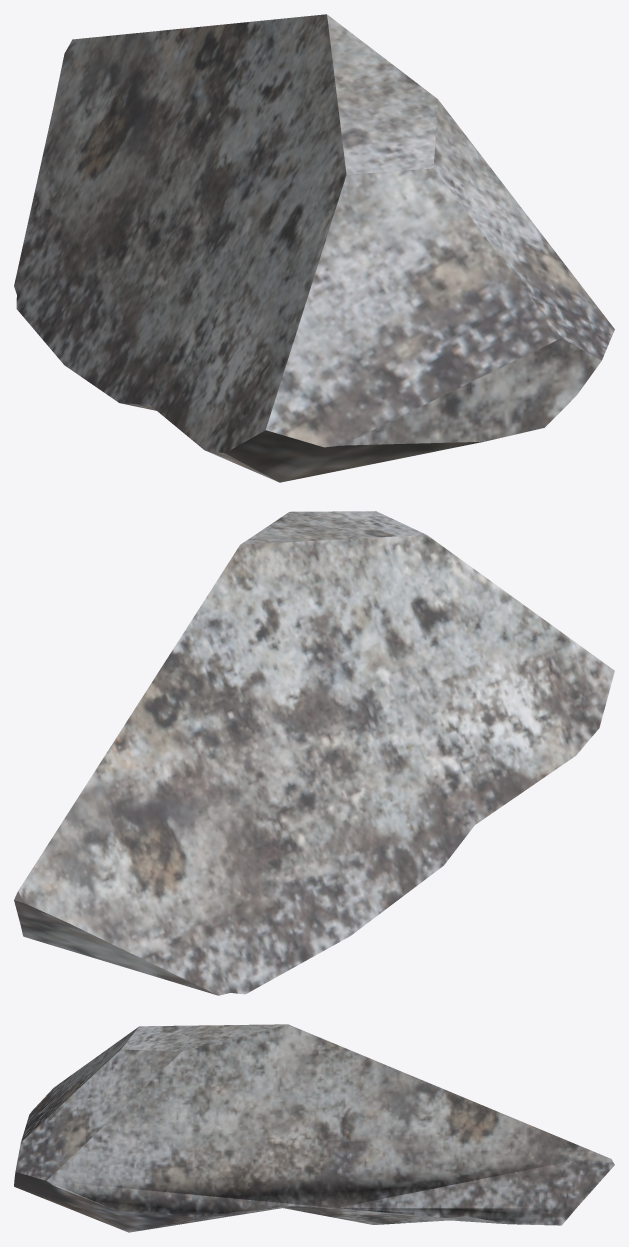
Rendered from Asteroid_Medium_001_02_001_03_003.fbx.
The picture shows the model from 3 angles, top to bottom: view 1: azimuth 30°, elevation 25°; view 2: azimuth 150°, elevation 25°; view 3: azimuth 270°, elevation 25°; orthographic projection. The views are drawn at different scales.
Visible parts, largest first — view 1: Asteroid_Medium_001_02_001_03_003; view 2: Asteroid_Medium_001_02_001_03_003; view 3: Asteroid_Medium_001_02_001_03_003.
Part boxes in pixels (left/top/right/bottom): Asteroid_Medium_001_02_001_03_003: left=14, top=14, right=614, bottom=482; Asteroid_Medium_001_02_001_03_003: left=14, top=511, right=614, bottom=995; Asteroid_Medium_001_02_001_03_003: left=14, top=1024, right=614, bottom=1232.
Size of the model in its own units: 6.04 by 6.04 by 13.93.
